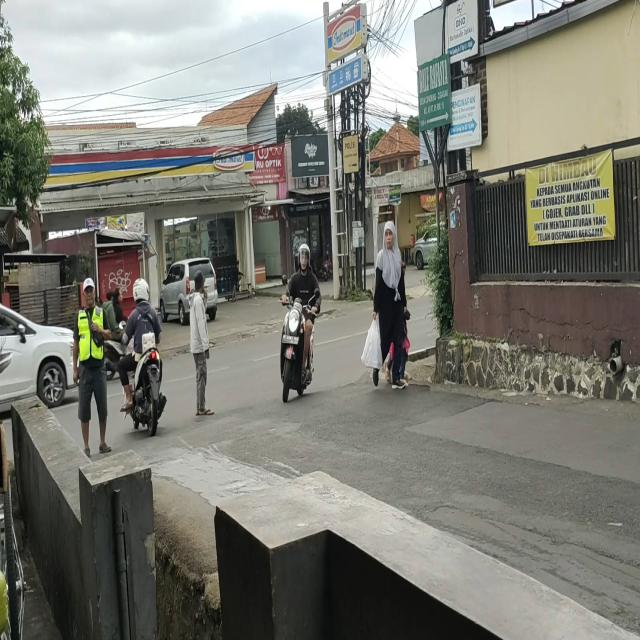helmet: (134, 278, 149, 300), (299, 245, 309, 266)
no-helmet: (114, 290, 122, 304), (107, 291, 113, 300)
